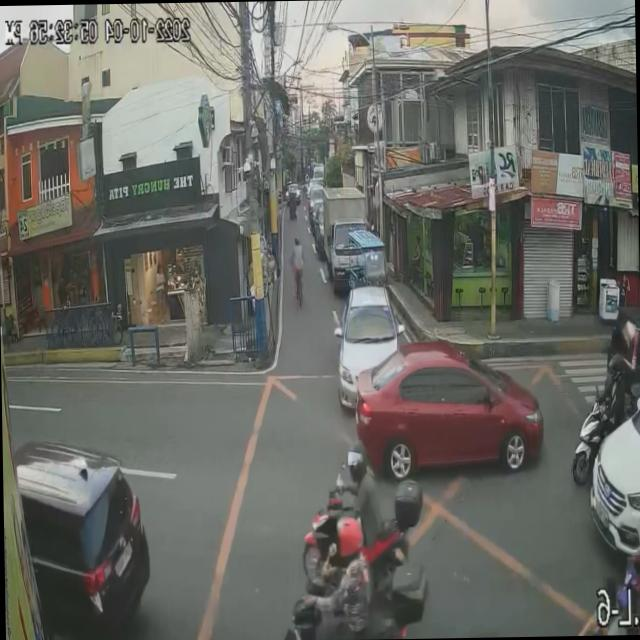full: (346, 440, 368, 480), (610, 356, 624, 378)
half: (336, 516, 364, 562)
